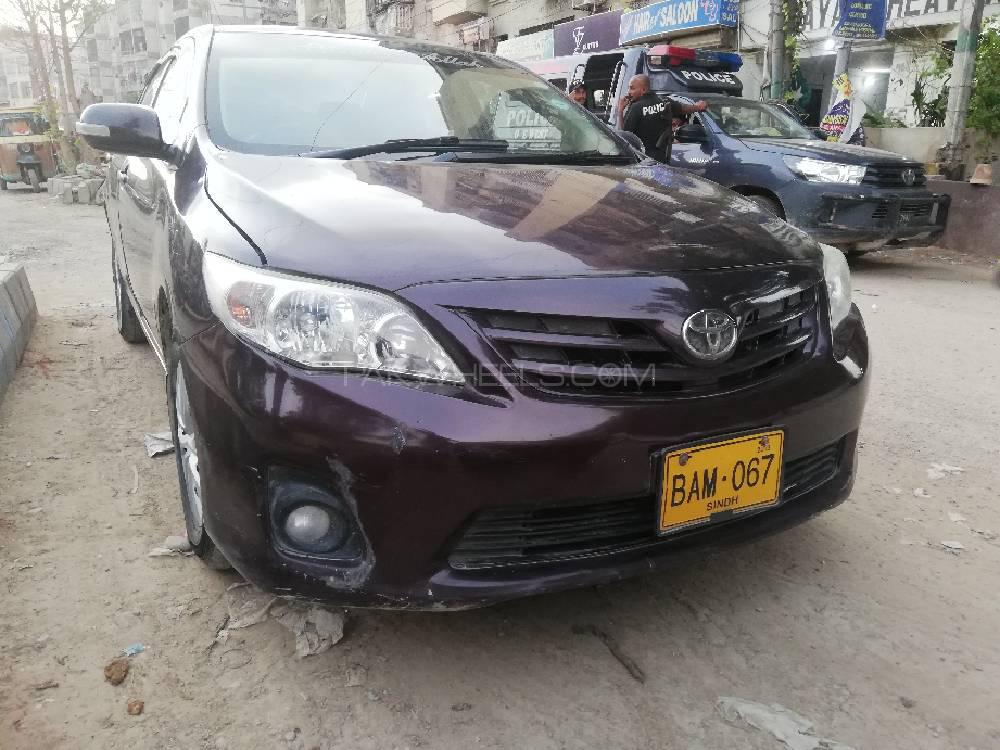license plate: (665, 445, 779, 521)
